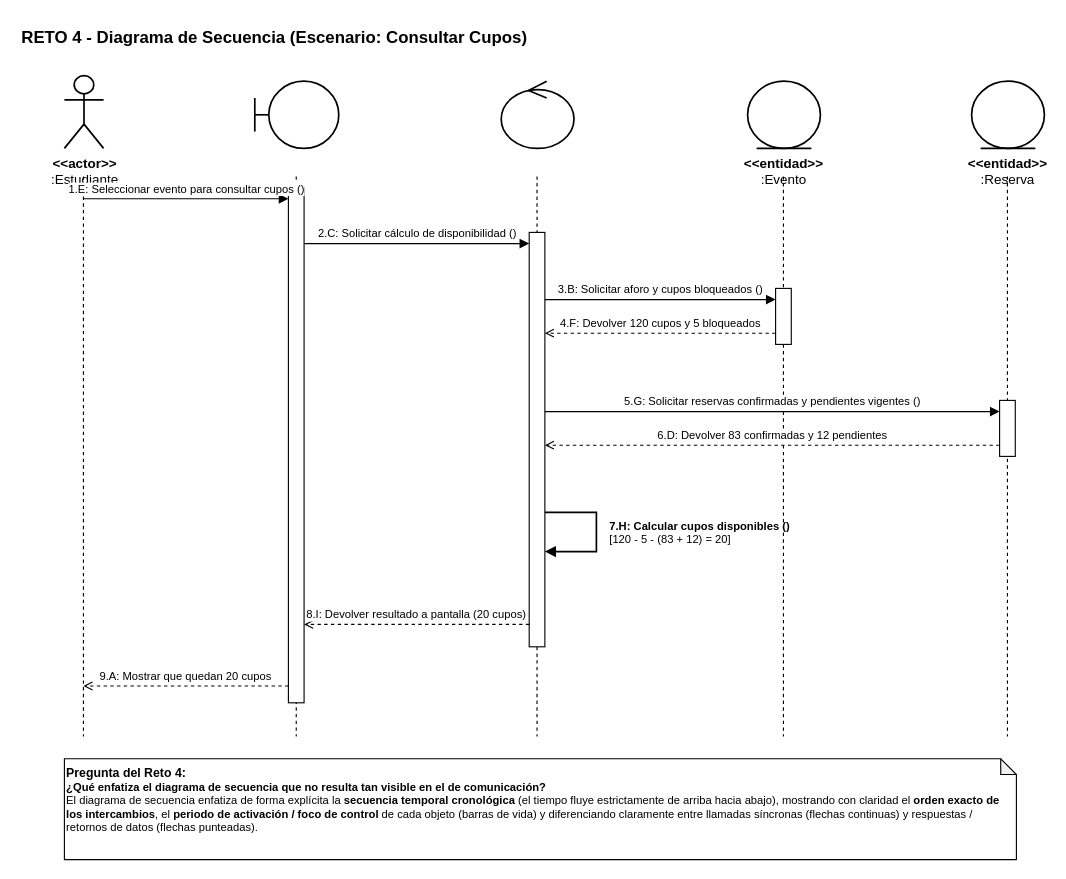
Some shapes in this 1066 by 879 pixel diagram are drawn without their labels. The centre of each missing label's shape, as x and y in pixels:
"<<control>> :Calcular Cupos" belongs at [537,114].
"<<límite>> :Pantalla Eventos" belongs at [296,114].
